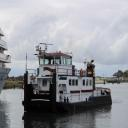tugboat: (23, 43, 114, 112)
